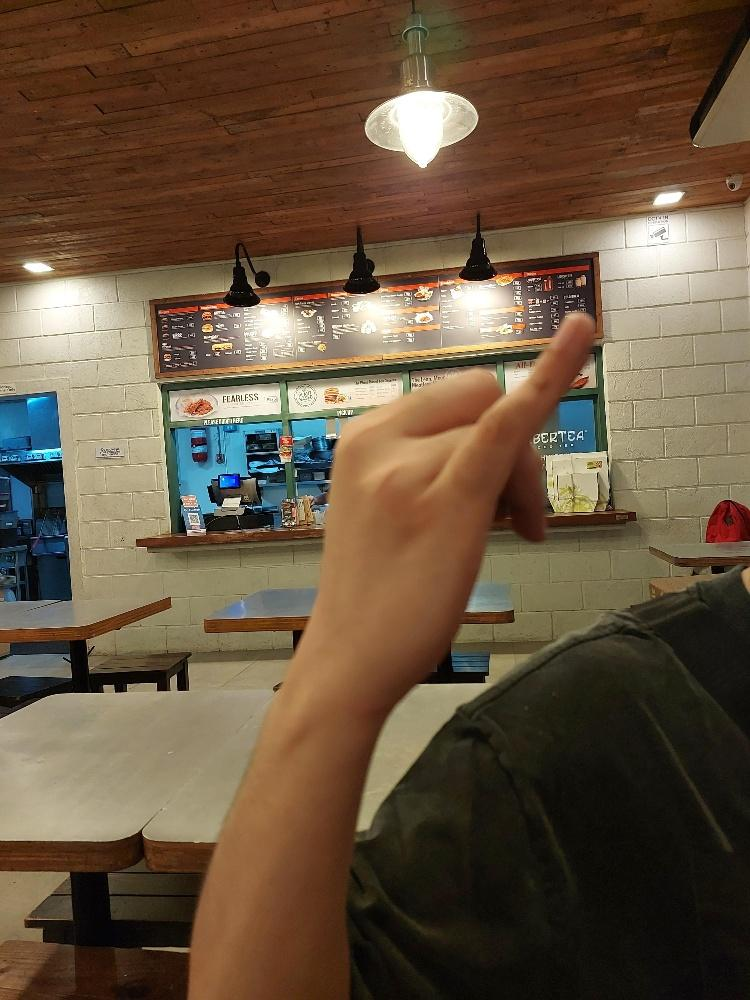j: (303, 308, 599, 719)
